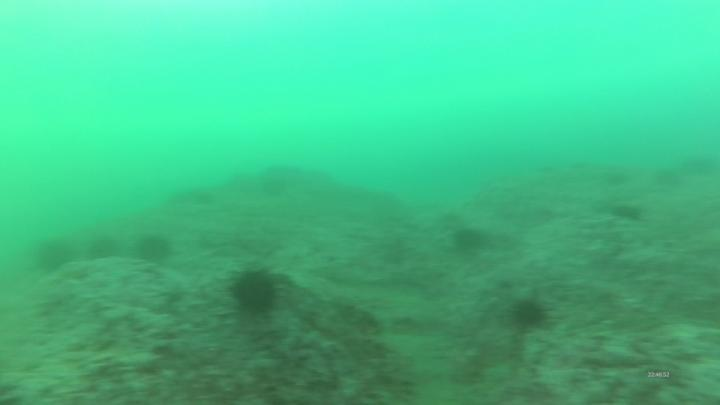echinus: (225, 264, 280, 319), (506, 295, 552, 331), (31, 241, 76, 275), (131, 233, 176, 266), (450, 228, 486, 259), (609, 203, 648, 227), (87, 237, 122, 263), (259, 174, 290, 200), (652, 166, 687, 188), (682, 155, 717, 177)
